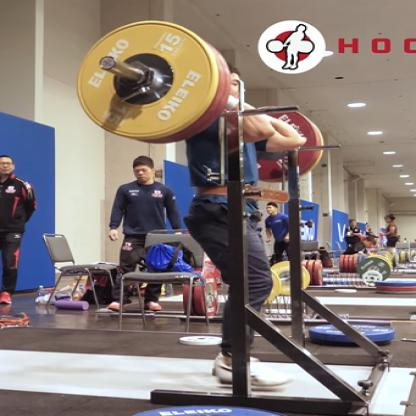Barbell: (74, 16, 236, 148)
